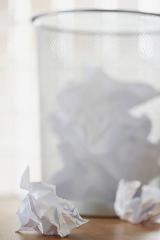paper: (45, 66, 159, 218), (15, 165, 89, 237), (113, 176, 159, 224)
